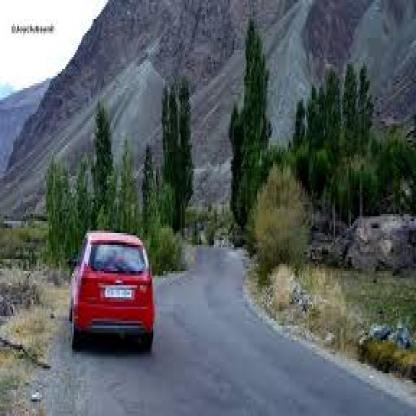car: (59, 234, 161, 369)
